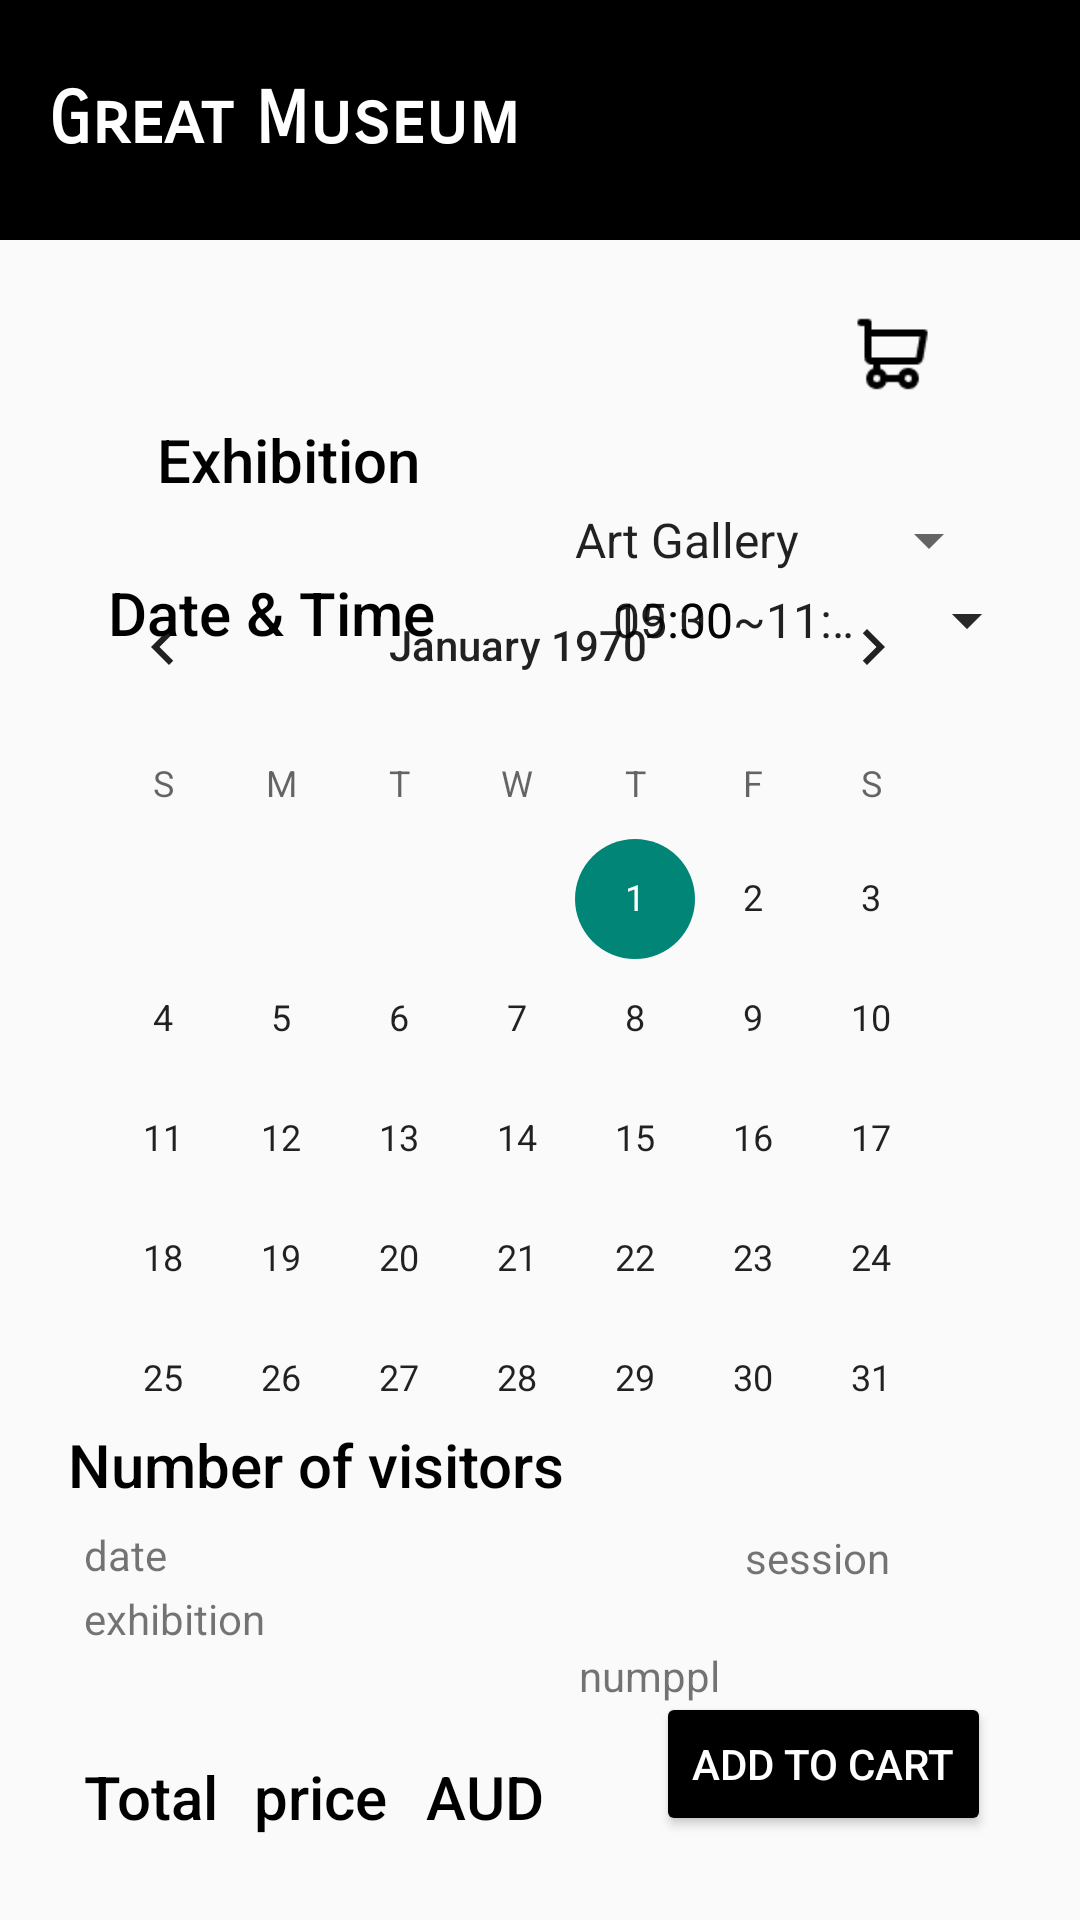

Named icons in this screenshot (1080px×1920px) and their centers, (x=x, y=y):
shoppingcart: (x=892, y=354)
